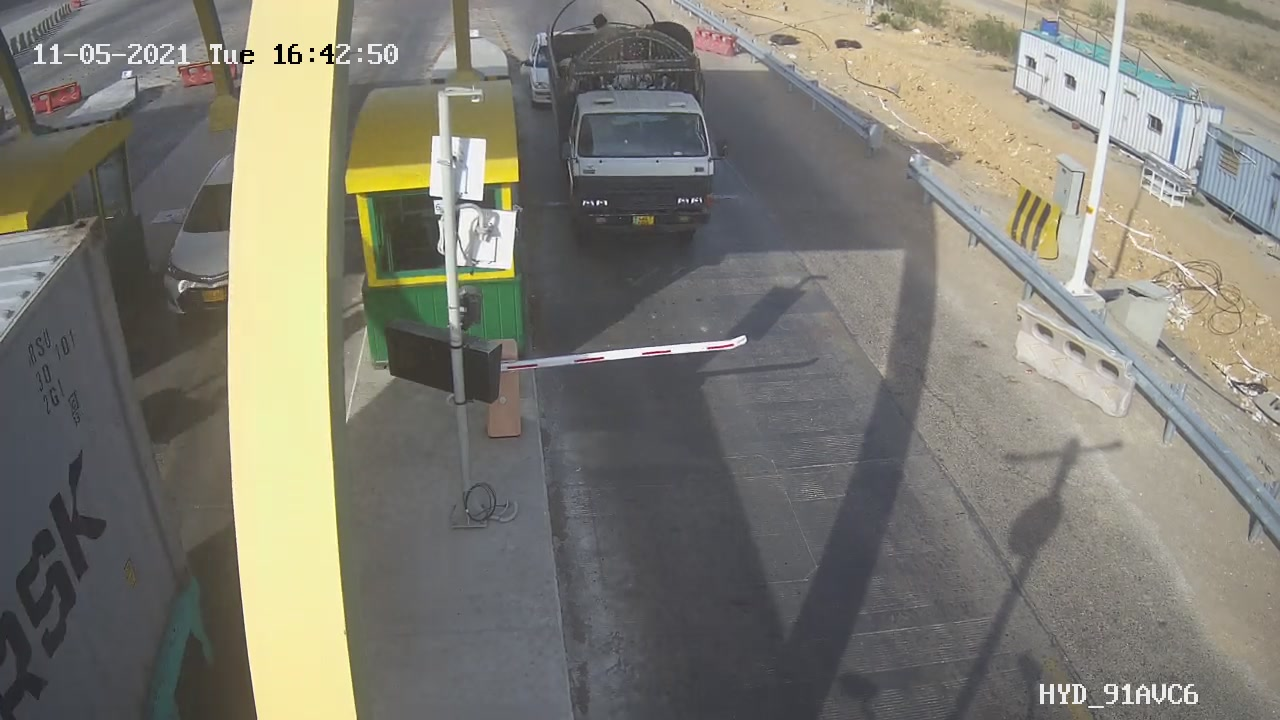F5: (529, 1, 742, 256)
